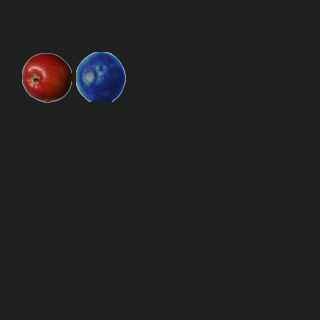Apple Braeburn: (21, 52, 71, 102)
Huckleberry: (75, 51, 125, 101)
